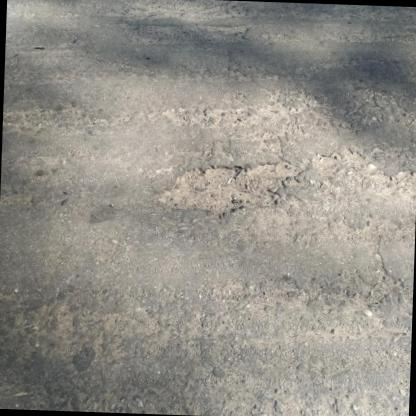pothole: (156, 155, 304, 221)
